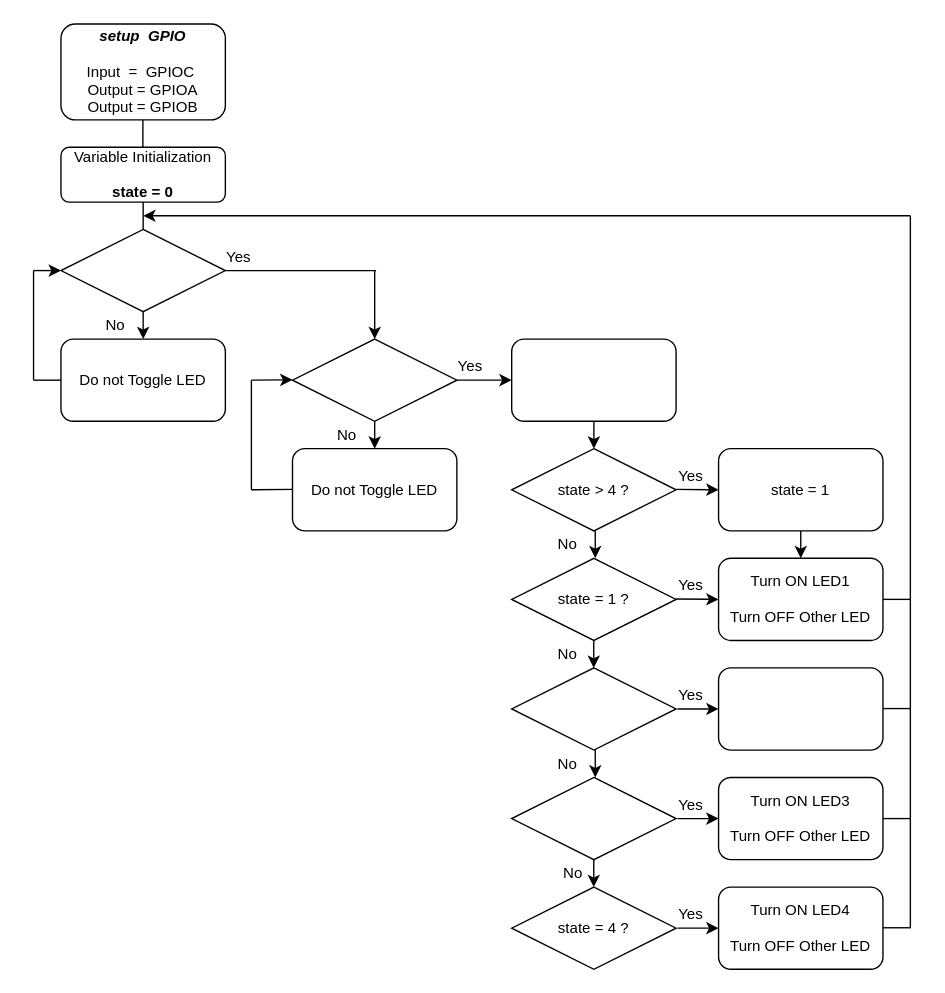
Image size: 945x993. Some labels were removed from this diagram. Here are the shapes that lost their labels. From the top down, the centre of each, then its label:
At point 142,270: "is Button.fall ?".
At point 374,379: "is Button.rise ?".
At point 593,379: "state ++".
At point 593,708: "state = 2 ?".
At point 800,708: "Turn ON LED2 Turn OFF Other LED".
At point 593,818: "state = 3 ?".
